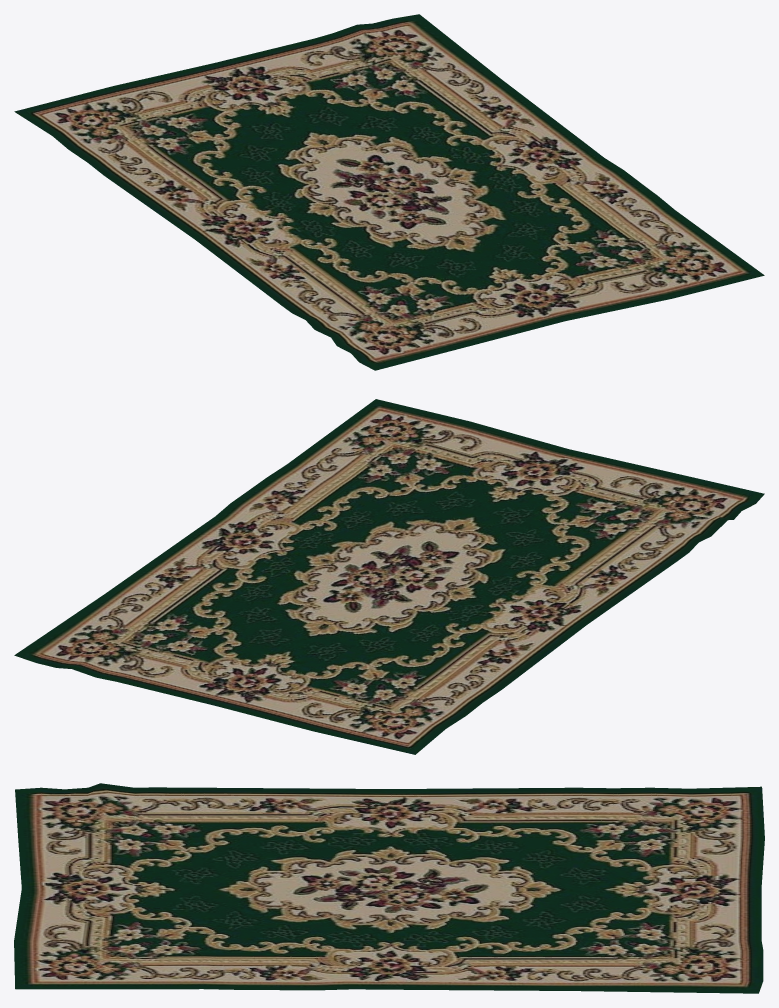
File: carpet.glb
The picture shows the model from 3 angles, top to bottom: view 1: azimuth 30°, elevation 25°; view 2: azimuth 150°, elevation 25°; view 3: azimuth 270°, elevation 25°; orthographic projection. The views are drawn at different scales.
Parts seen in each view (by area): view 1: Plane001_0; view 2: Plane001_0; view 3: Plane001_0.
Part boxes in pixels (x1,y1,x2,y2): Plane001_0: (14,14,764,370); Plane001_0: (14,399,764,754); Plane001_0: (14,783,764,993).
Size of the model in its own units: 1.99 by 0.0201 by 3.06.
Materials: 1 (1 with a texture image).
